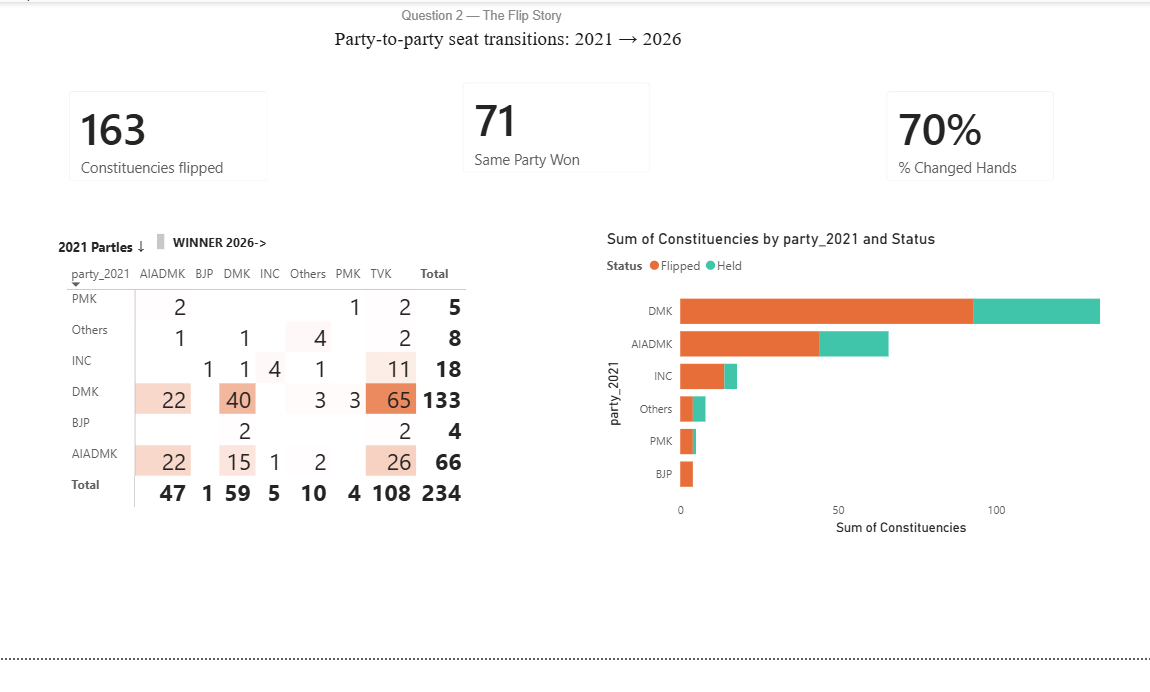

What the dashboard file says about the page in this screenshot:
{"tool":"powerbi","page":{"name":"changed_constituencies","canvas":[1280,720],"ordinal":1},"visuals":[{"type":"textbox","box":[182.5,0,795.9,81],"z":0},{"type":"cardVisual","fields":{"Data":["flipmatrix.Total Flipped"]},"box":[68.6,81,252.5,133.1],"z":1000},{"type":"cardVisual","fields":{"Data":["flipmatrix.Total Held"]},"box":[500.9,71.4,240.1,133.1],"z":2000},{"type":"cardVisual","fields":{"Data":["flipmatrix.Flip Rate"]},"box":[966,81,218.2,133.1],"z":3000},{"type":"pivotTable","fields":{"Rows":["flipmatrix.party_2021"],"Columns":["flipmatrix.party_2026"],"Values":["Sum(flipmatrix.Constituencies)"]},"box":[78.2,284,458.3,345.8],"z":4000},{"type":"barChart","fields":{"Category":["flipmatrix.party_2021"],"Y":["Sum(flipmatrix.Constituencies)"],"Series":["flipmatrix.Status"]},"box":[671,249.7,585.9,340.3],"z":5000},{"type":"textbox","box":[194.9,249.7,126.2,34.3],"z":6000},{"type":"textbox","box":[68.6,249.7,126.2,34.3],"z":7000}]}

Visuals, with their boxes on the page's 1280x720 design canvas (x1, y1, x2, y2). These are canvas units, not pixel positions in the 1150x692 screenshot, which may show the page scaled, cropped or inside an application window:
textbox: (182,0,978,81)
cardVisual - flipmatrix.Total Flipped: (69,81,321,214)
cardVisual - flipmatrix.Total Held: (501,71,741,204)
cardVisual - flipmatrix.Flip Rate: (966,81,1184,214)
pivotTable - flipmatrix.party_2021 x flipmatrix.party_2026: (78,284,536,630)
barChart - flipmatrix.party_2021 x Sum(flipmatrix.Constituencies): (671,250,1257,590)
textbox: (195,250,321,284)
textbox: (69,250,195,284)
